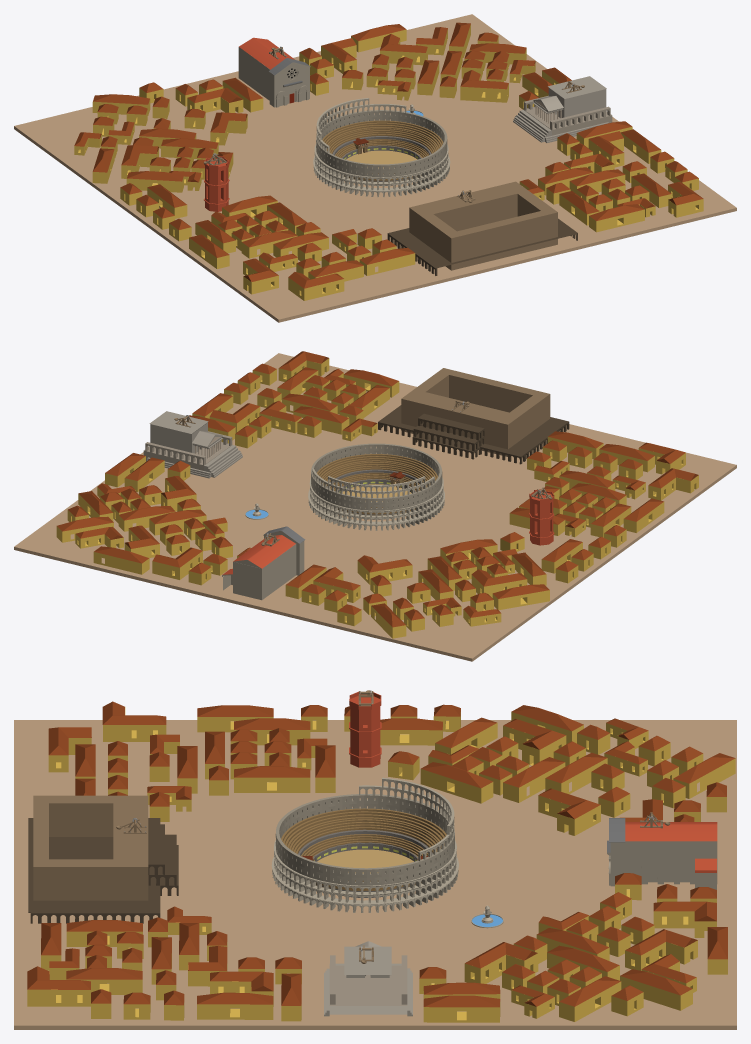
The model's file is escenario.fbx.
3 renders of one model, top to bottom at view 1: azimuth 30°, elevation 25°; view 2: azimuth 150°, elevation 25°; view 3: azimuth 270°, elevation 25°, orthographic. The views are drawn at different scales.
Visible parts, largest first — view 1: panteon; view 2: panteon; view 3: panteon.
Part boxes in pixels (box(x1,y1,x2,y2)): panteon: box(14, 14, 736, 322); panteon: box(14, 351, 736, 661); panteon: box(14, 690, 736, 1029).
Bounding box in the file's own units: 25743 × 3083 × 25743.
